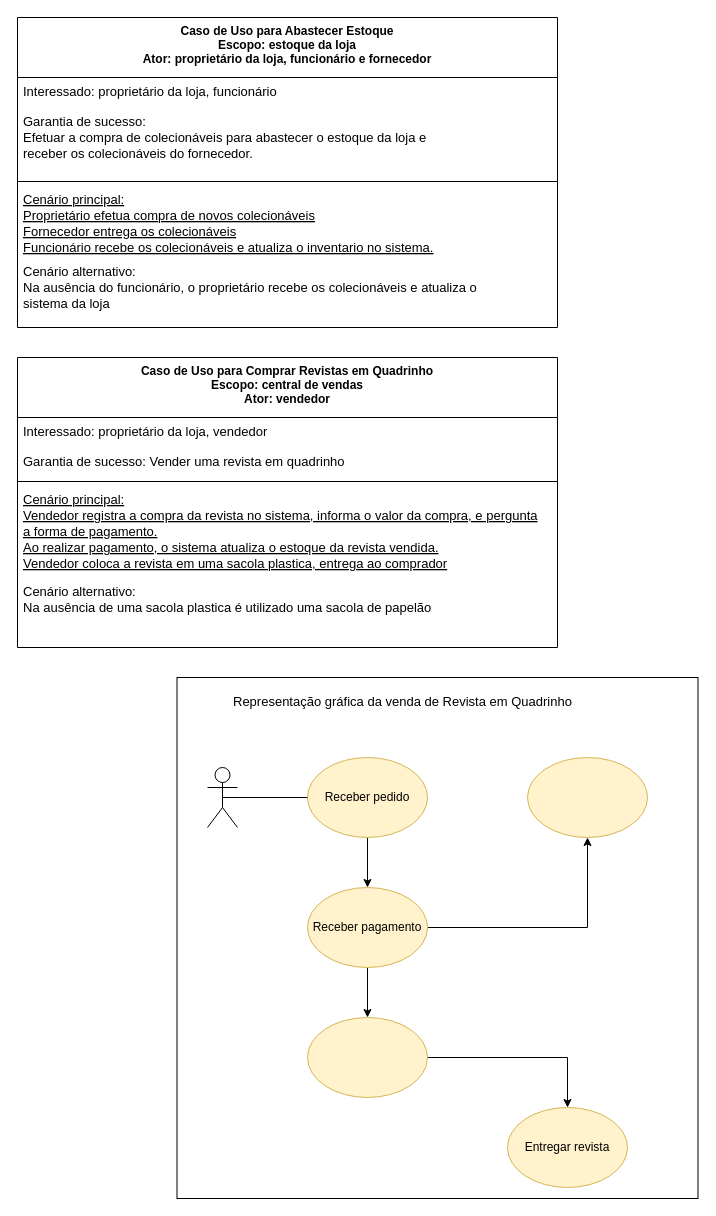
The diagram is 716 pixels wide and 1216 high, and some of its shapes have lost their labels. The shapes that lost their labels are listed below. From the top down, each one's box as (x1, y1, x2, y2) in pixels, then its label:
(206, 766, 238, 828): Vendedor
(526, 756, 648, 838): Atualizar estoque
(306, 1016, 428, 1098): Embalar a revista
